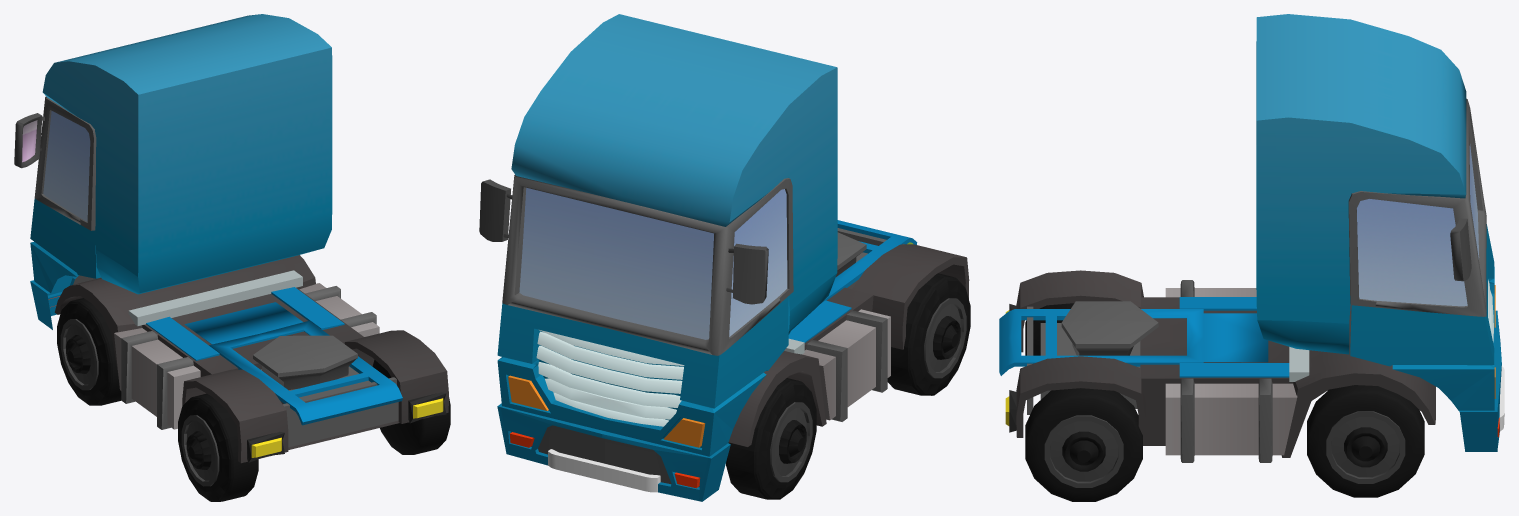
The model's file is Truck_2.fbx.
3 renders of one model, left to right at view 1: azimuth 30°, elevation 25°; view 2: azimuth 150°, elevation 25°; view 3: azimuth 270°, elevation 25°, orthographic. The views are drawn at different scales.
Visible parts, largest first — view 1: Object015, Object014, R3_039, R3_038, R3_037; view 2: Object015, Object014, R3_038, R3_039; view 3: Object015, Object014, R3_037, R3_036.
Boxes of the visible parts, bbox=[...] form: Object015: bbox=[14, 14, 332, 329]; Object014: bbox=[54, 255, 448, 463]; R3_039: bbox=[178, 393, 258, 501]; R3_038: bbox=[57, 298, 121, 405]; R3_037: bbox=[372, 359, 450, 454]; Object015: bbox=[479, 14, 837, 501]; Object014: bbox=[729, 220, 969, 446]; R3_038: bbox=[726, 378, 816, 499]; R3_039: bbox=[887, 273, 970, 395]; Object015: bbox=[1256, 14, 1504, 451]; Object014: bbox=[999, 270, 1435, 462]; R3_037: bbox=[1025, 388, 1142, 501]; R3_036: bbox=[1307, 385, 1424, 497].
Bounding box in the file's own units: 3640 × 4743 × 5741.
